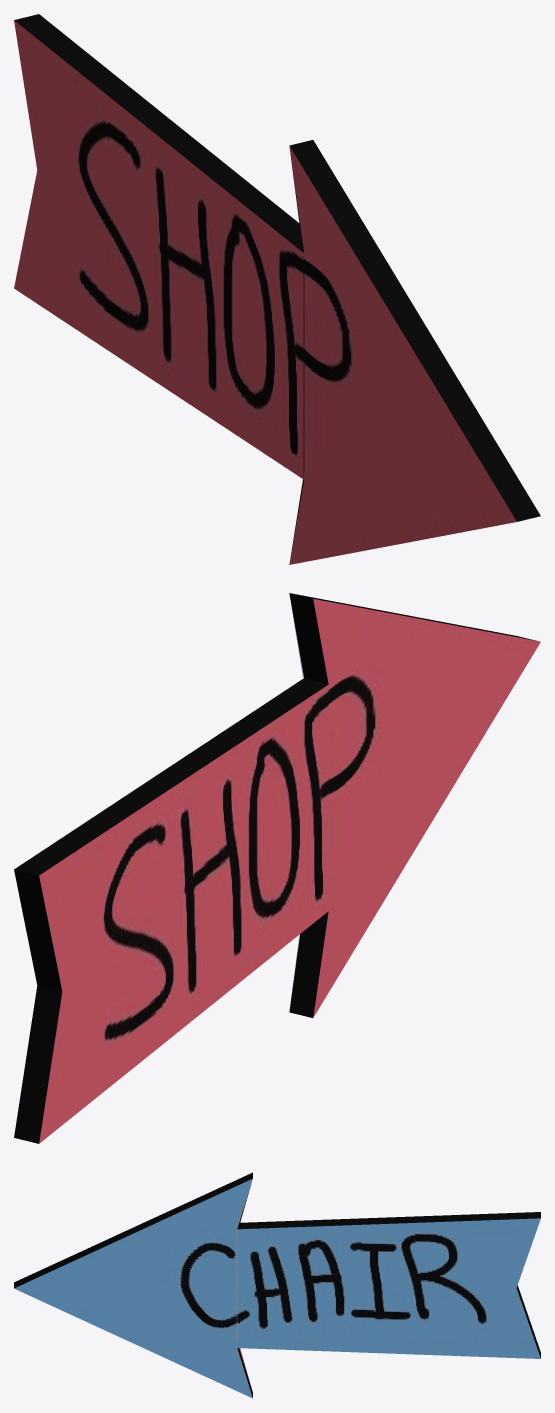
The model's file is ShopArrow.glb.
The picture shows the model from 3 angles, top to bottom: view 1: azimuth 30°, elevation 25°; view 2: azimuth 150°, elevation 25°; view 3: azimuth 270°, elevation 25°; orthographic projection. The views are drawn at different scales.
Visible parts, largest first — view 1: Cube; view 2: Cube; view 3: Cube.
Boxes of the visible parts, x1=… form: Cube: x1=14, y1=14, x2=540, y2=564; Cube: x1=14, y1=593, x2=540, y2=1143; Cube: x1=14, y1=1172, x2=540, y2=1398.
Size of the model in its own units: 0.0443 by 0.7077 by 1.54.
Materials: 1 (1 with a texture image).
